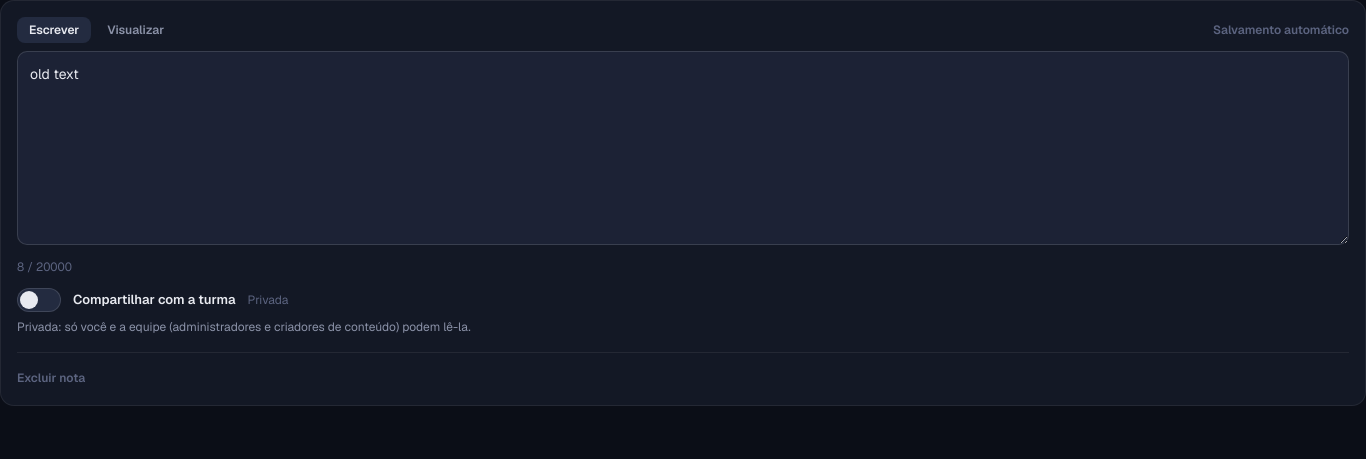
Scenario: MyNoteEditor › shows the audience line naming staff and requires confirmation to share
The width and height of the screenshot is (1366, 459).
Expected: the text "Privada: só você e a equipe (administradores e criadores de conteúdo) podem lê-la." is shown, [17,319,470,335]
Click the switch named "Compartilhar com a turma" at (39, 300), box [17,288,61,312]
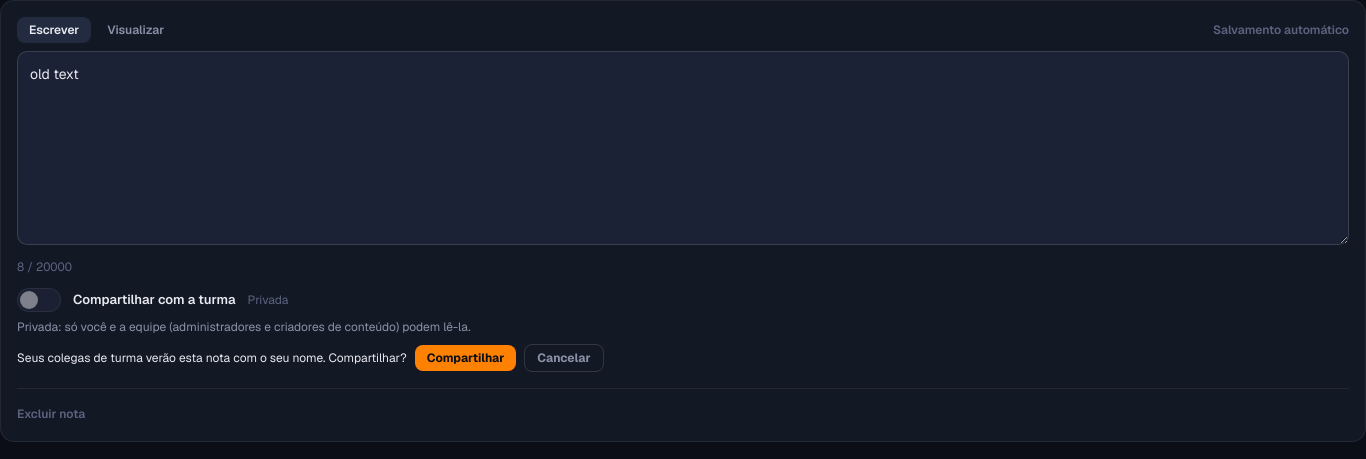
Expected: the text "Seus colegas de turma verão esta nota com o seu nome. Compartilhar?" is shown, [17,349,407,367]
Click the button "Cancelar" at (564, 358), box [524,344,604,372]
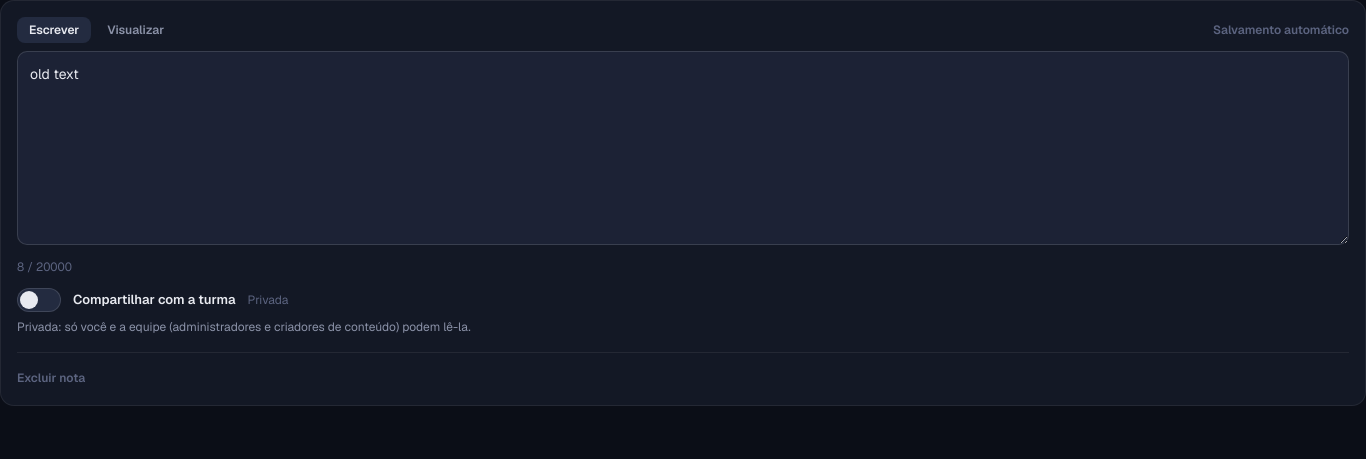
Click the switch named "Compartilhar com a turma" at (39, 300), box [17,288,61,312]
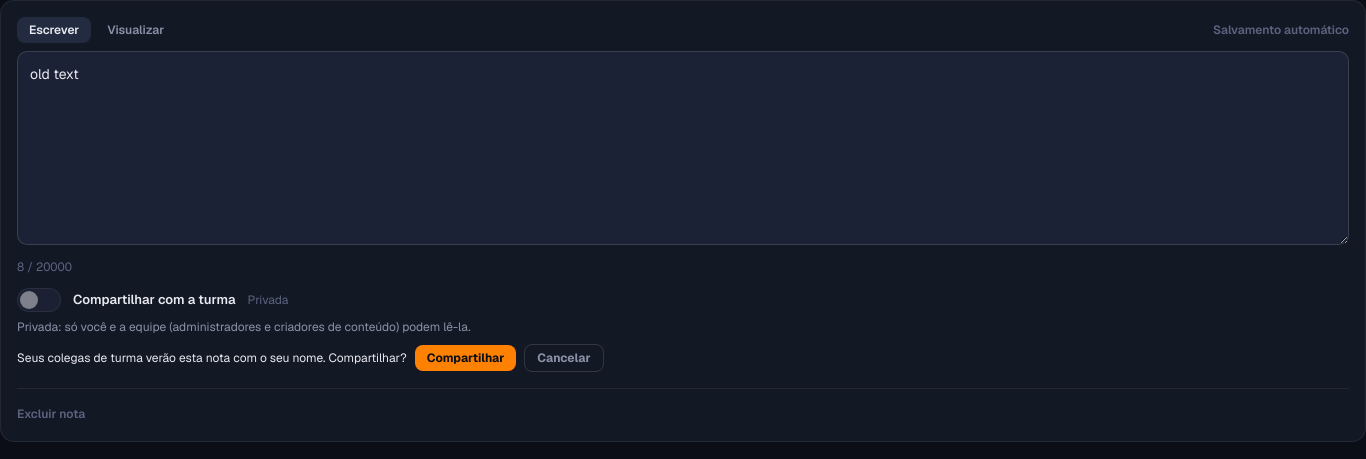
Click the button "Compartilhar" at (466, 358), box [415,345,516,371]
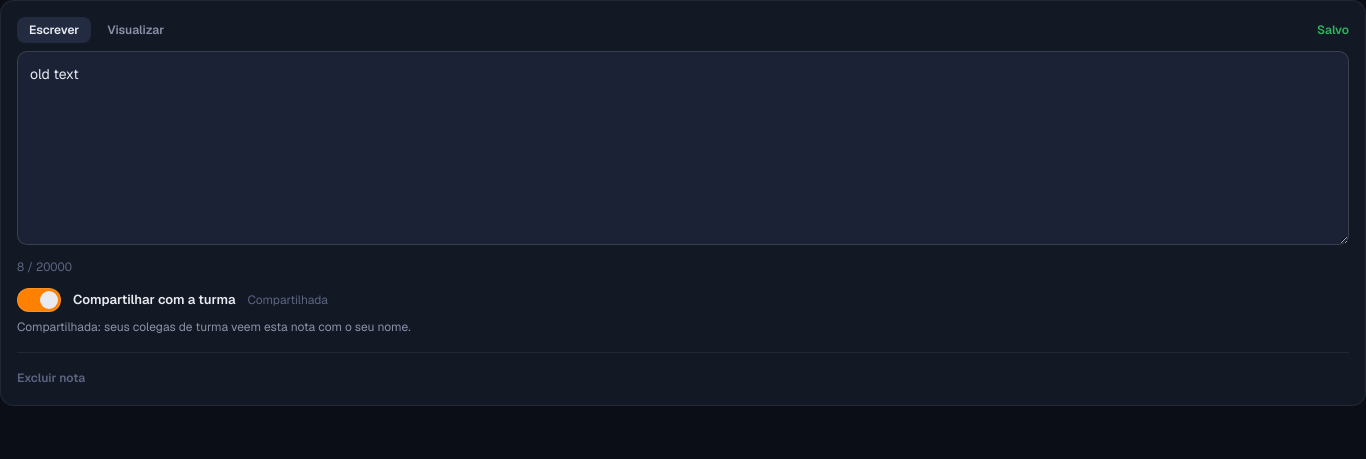
Expected: the text "Compartilhada: seus colegas de turma veem esta nota com o seu nome." is shown, [17,319,410,335]
